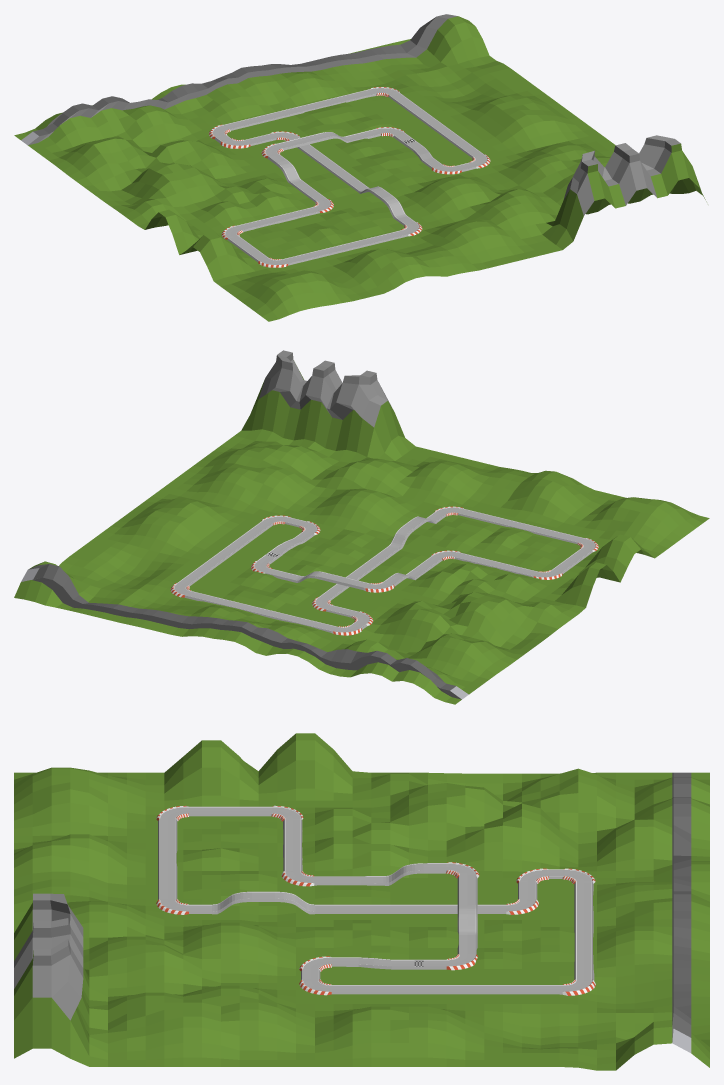
File: track2.fbx
3 views of the same model, one above another, from view 1: azimuth 30°, elevation 25°; view 2: azimuth 150°, elevation 25°; view 3: azimuth 270°, elevation 25° (orthographic). The views are drawn at different scales.
Visible parts, largest first — view 1: Plane, Straight.020, Straight.021, Straight.014, Straight.017, Straight.012; view 2: Plane, Straight.020, Straight.021, Straight.014, Straight.017; view 3: Plane, Straight.021, Straight.020, Straight.017, Straight.014, Straight.013, Straight.012, ramp, Straight.023.
Part boxes in pixels (x1=…): Plane: x1=14, y1=14, x2=706, y2=321; Straight.020: x1=224, y1=89, x2=376, y2=130; Straight.021: x1=388, y1=92, x2=483, y2=157; Straight.014: x1=282, y1=230, x2=407, y2=265; Straight.017: x1=289, y1=137, x2=369, y2=191; Straight.012: x1=236, y1=210, x2=305, y2=231; Plane: x1=14, y1=350, x2=709, y2=704; Straight.020: x1=184, y1=591, x2=337, y2=632; Straight.021: x1=177, y1=521, x2=272, y2=586; Straight.014: x1=458, y1=509, x2=583, y2=543; Straight.017: x1=319, y1=546, x2=399, y2=600; Plane: x1=14, y1=733, x2=709, y2=1070; Straight.021: x1=331, y1=985, x2=562, y2=994; Straight.020: x1=574, y1=882, x2=594, y2=980; Straight.017: x1=315, y1=904, x2=506, y2=913; Straight.014: x1=158, y1=819, x2=177, y2=899; Straight.013: x1=189, y1=806, x2=271, y2=816; Straight.012: x1=283, y1=819, x2=302, y2=862; ramp: x1=457, y1=905, x2=477, y2=936; Straight.023: x1=332, y1=957, x2=391, y2=969.
Bounding box in the file's own units: 82.44 × 82.44 × 14.85.
